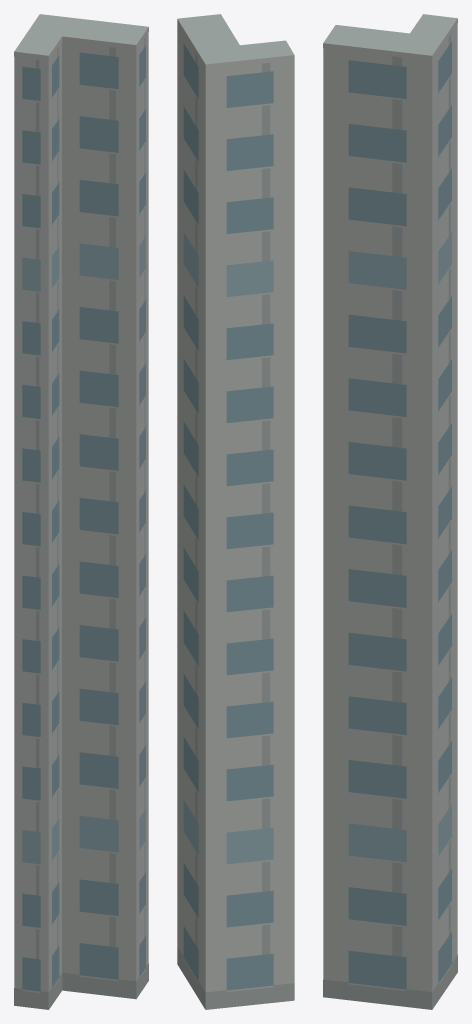
Rendered from survey-upis-32538536.glb.
3 views of the same model, side by side, from view 1: azimuth 90°, elevation 25°; view 2: azimuth 210°, elevation 25°; view 3: azimuth 270°, elevation 25° (orthographic).
Parts seen in each view (by area): view 1: survey-upis-32538536.tmp; view 2: survey-upis-32538536.tmp; view 3: survey-upis-32538536.tmp.
Boxes of the visible parts, x1=… form: survey-upis-32538536.tmp: x1=14, y1=14, x2=148, y2=1009; survey-upis-32538536.tmp: x1=177, y1=14, x2=294, y2=1009; survey-upis-32538536.tmp: x1=323, y1=14, x2=457, y2=1009.
Bounding box in the file's own units: 4.31 × 45.75 × 5.86.
